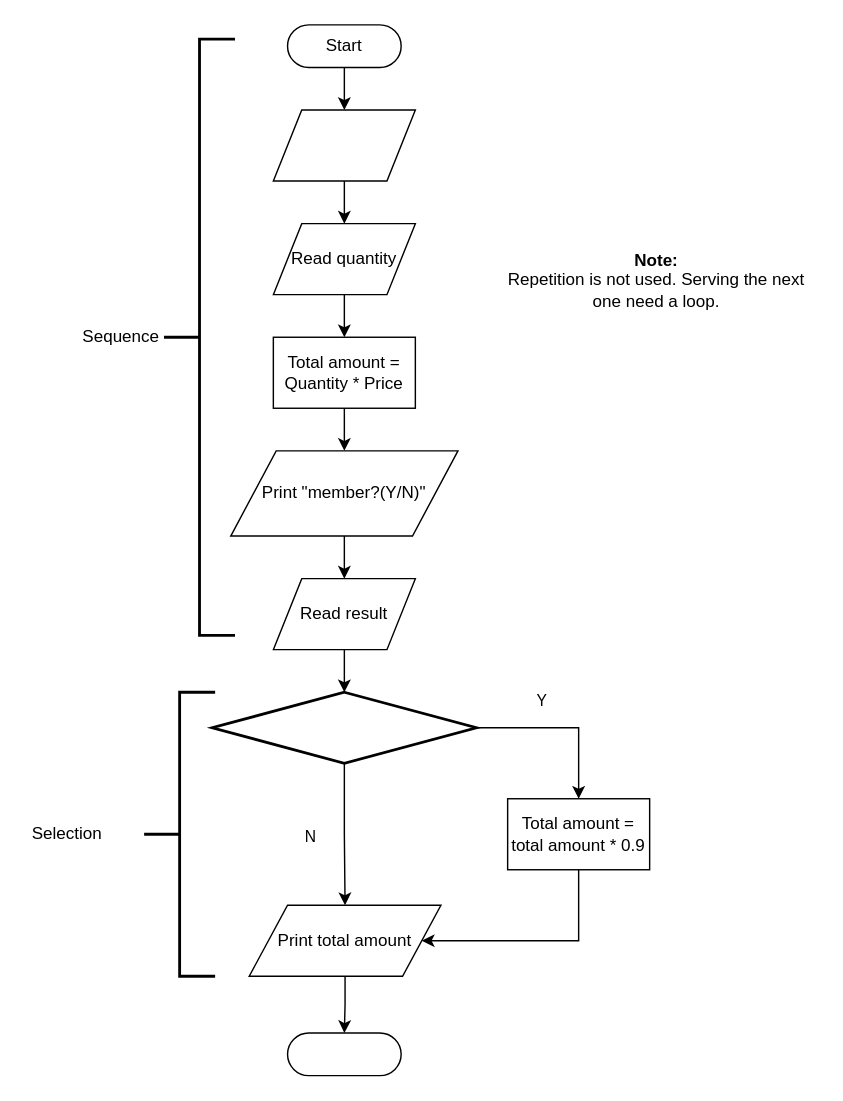
This 843x1101 diagram has some shape labels left out. Each missing label, with the box of its shape:
End: (286, 1032, 401, 1076)
Member (Y/N): (210, 690, 477, 764)
Print price: (272, 109, 415, 181)
